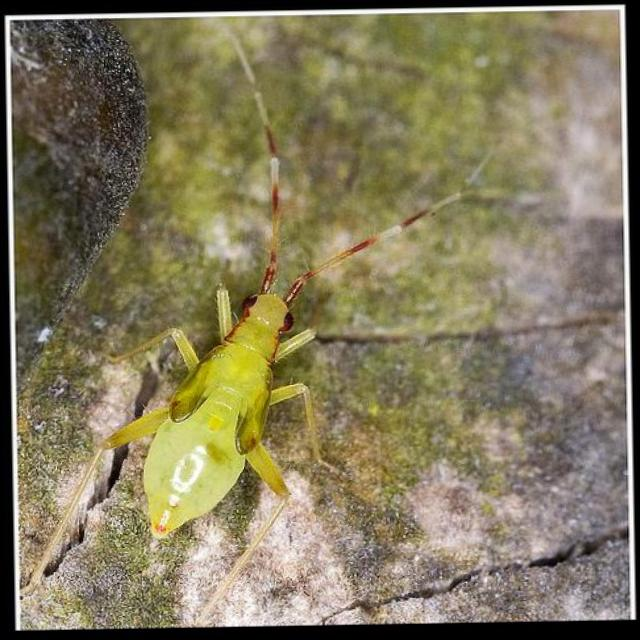Aphids: (114, 44, 366, 602)
